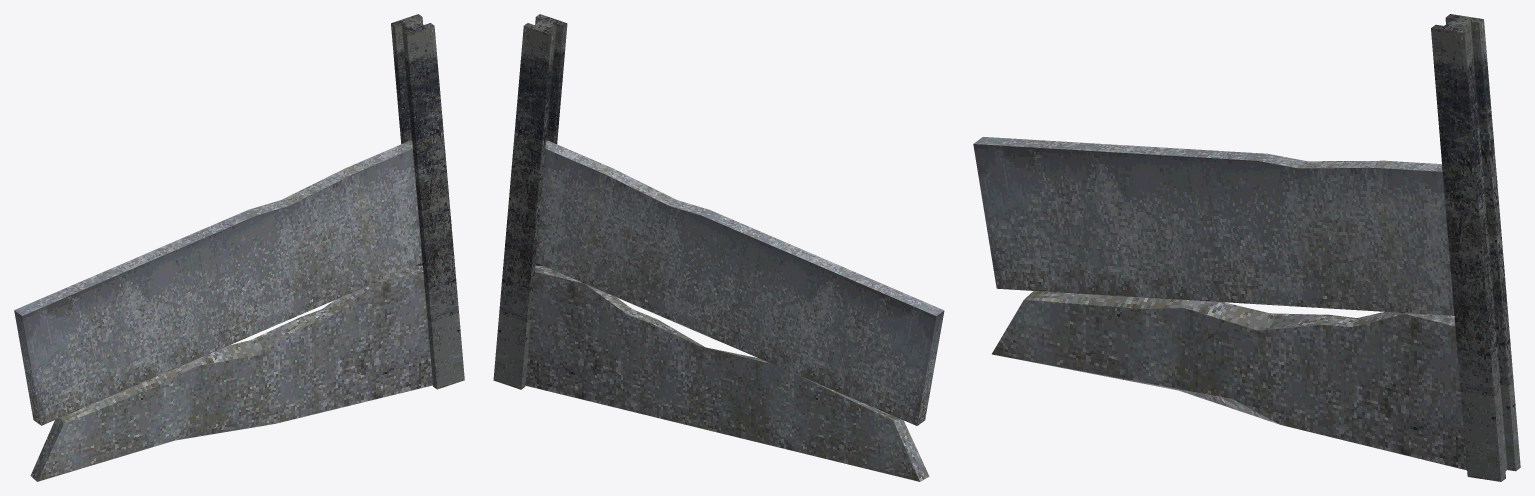
Rendered from plackard_broken_slanted.glb.
The picture shows the model from 3 angles, left to right: view 1: azimuth 30°, elevation 25°; view 2: azimuth 150°, elevation 25°; view 3: azimuth 330°, elevation 25°; orthographic projection. The views are drawn at different scales.
Parts seen in each view (by area): view 1: plackard_broken_slanted; view 2: plackard_broken_slanted; view 3: plackard_broken_slanted.
Part boxes in pixels (box(x1,y1,x2,y2)): plackard_broken_slanted: box(14, 14, 464, 481); plackard_broken_slanted: box(493, 14, 944, 481); plackard_broken_slanted: box(973, 14, 1520, 481).
Bounding box in the file's own units: 3.16 × 2.51 × 0.2.
Materials: 1 (1 with a texture image).
